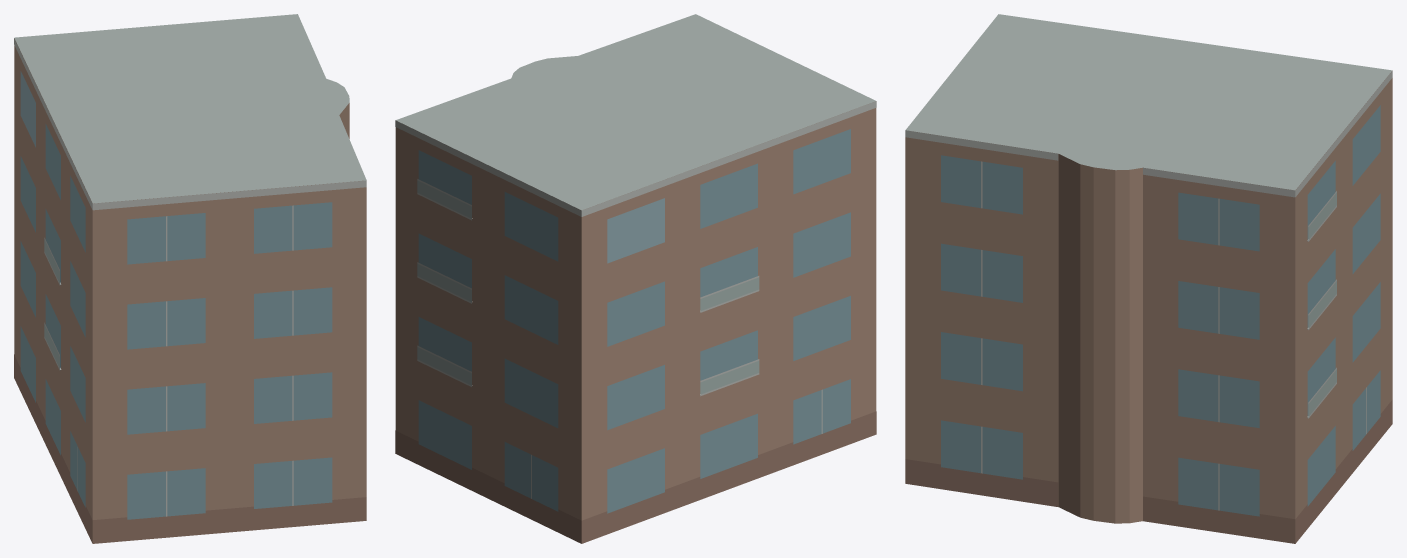
File: survey-upis-32703119.glb
3 renders of one model, left to right at view 1: azimuth 30°, elevation 25°; view 2: azimuth 150°, elevation 25°; view 3: azimuth 270°, elevation 25°, orthographic. The views are drawn at different scales.
Visible parts, largest first — view 1: survey-upis-32703119.tmp; view 2: survey-upis-32703119.tmp; view 3: survey-upis-32703119.tmp.
Boxes of the visible parts, x1,y1,x2,y2 form: survey-upis-32703119.tmp: (14, 14, 366, 543); survey-upis-32703119.tmp: (395, 14, 876, 543); survey-upis-32703119.tmp: (905, 14, 1392, 543).
Size of the model in its own units: 13.07 by 12.2 by 15.25.
